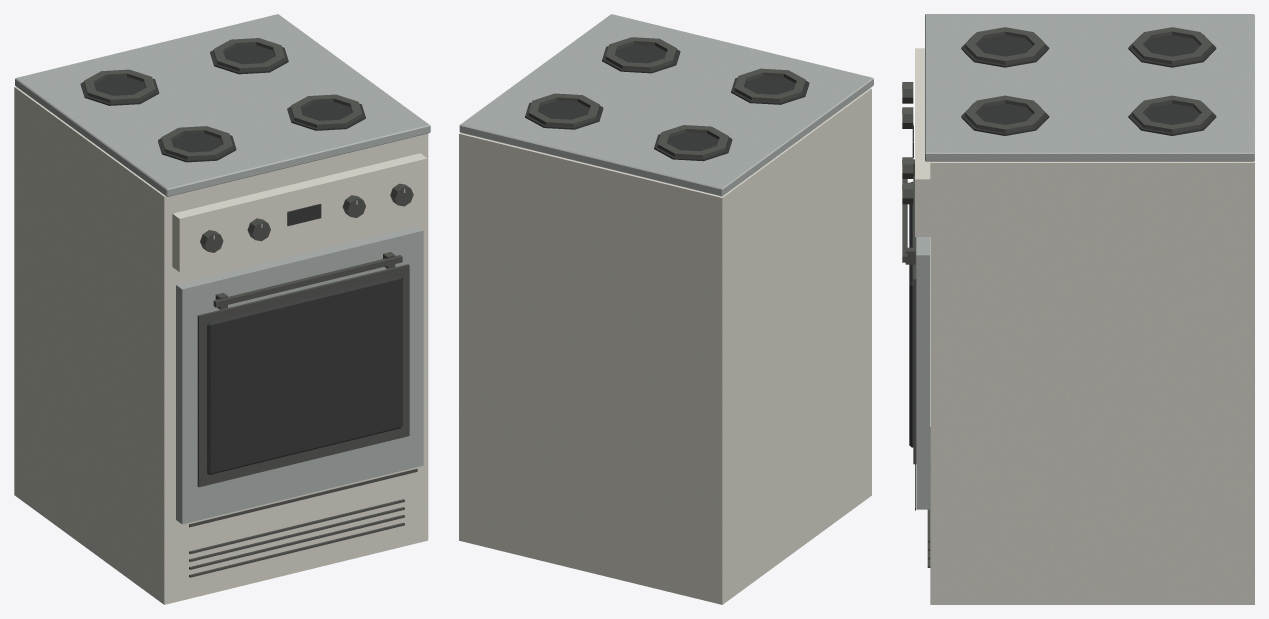
File: stove.glb
The picture shows the model from 3 angles, left to right: view 1: azimuth 30°, elevation 25°; view 2: azimuth 150°, elevation 25°; view 3: azimuth 270°, elevation 25°; orthographic projection. The views are drawn at different scales.
Parts seen in each view (by area): view 1: home_stove; view 2: home_stove; view 3: home_stove.
Part boxes in pixels (x1,y1,x2,y2): home_stove: [14, 14, 430, 604]; home_stove: [459, 14, 873, 604]; home_stove: [902, 14, 1254, 604].
Size of the model in its own units: 0.6 by 0.916 by 0.641.
Materials: 1 (1 with a texture image).
